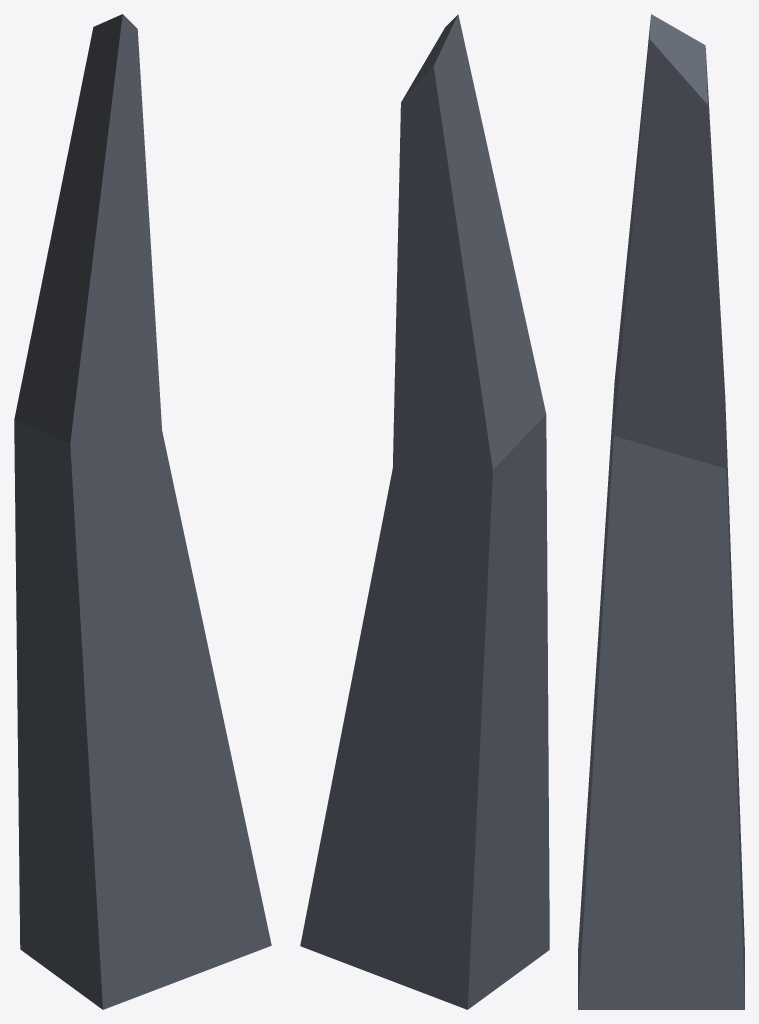
File: Rock_Sharp_s_09.fbx
3 views of the same model, side by side, from view 1: azimuth 30°, elevation 25°; view 2: azimuth 150°, elevation 25°; view 3: azimuth 270°, elevation 25° (orthographic).
Parts seen in each view (by area): view 1: Rock_Sharp_s_09; view 2: Rock_Sharp_s_09; view 3: Rock_Sharp_s_09.
Part boxes in pixels (left/top/right/bottom): Rock_Sharp_s_09: left=14, top=14, right=271, bottom=1009; Rock_Sharp_s_09: left=300, top=14, right=549, bottom=1009; Rock_Sharp_s_09: left=578, top=14, right=744, bottom=1009.
Bounding box in the file's own units: 0.1483 × 0.7342 × 0.1153.
